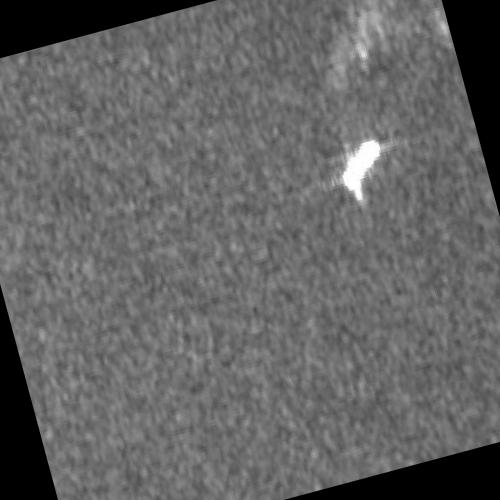ship: (341, 139, 383, 201)
